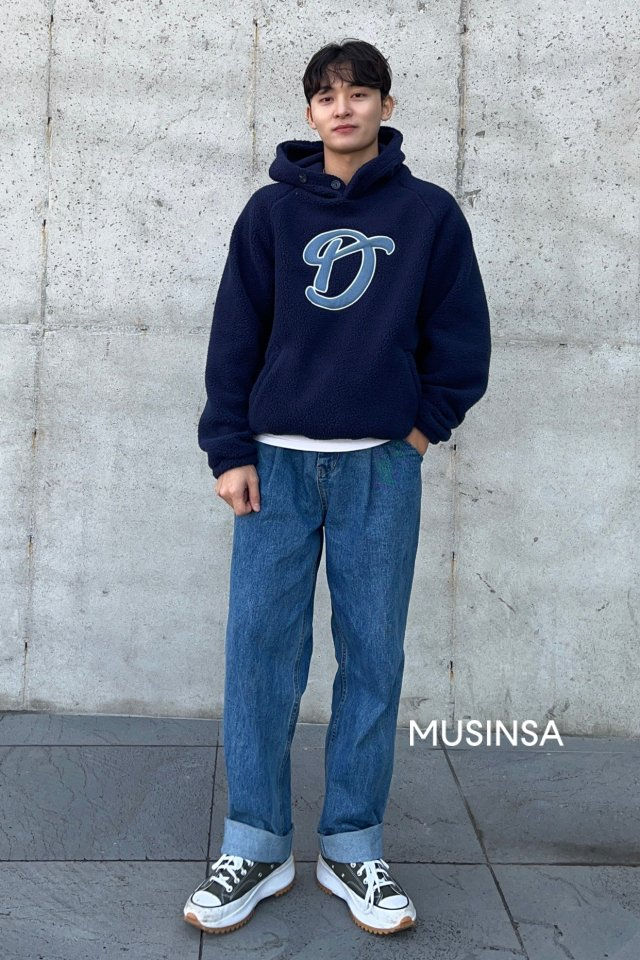Hoodie: (195, 122, 491, 463)
Jeans: (211, 430, 413, 862)
Shoes: (181, 851, 422, 943)
